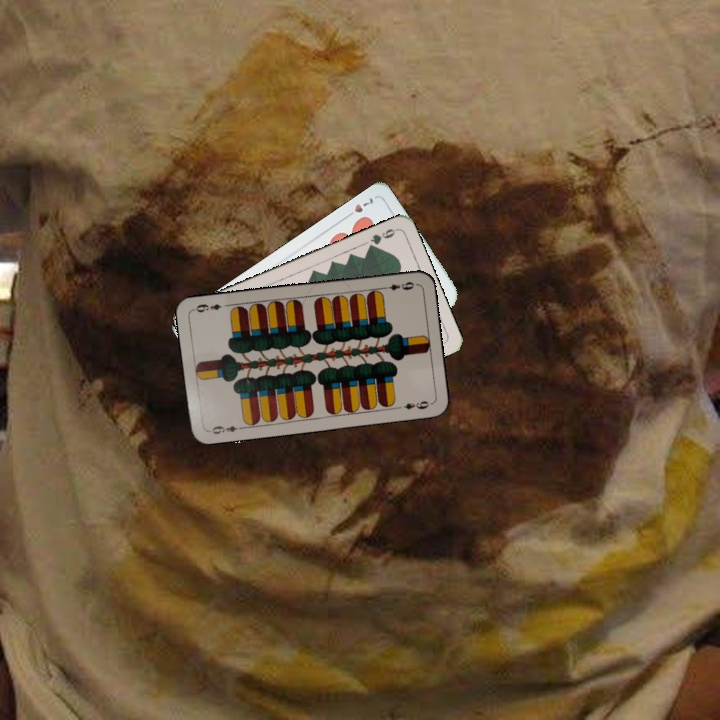E9: (378, 277, 417, 293), (205, 422, 245, 437)
G9: (364, 225, 399, 253)
H7: (341, 194, 376, 221)
